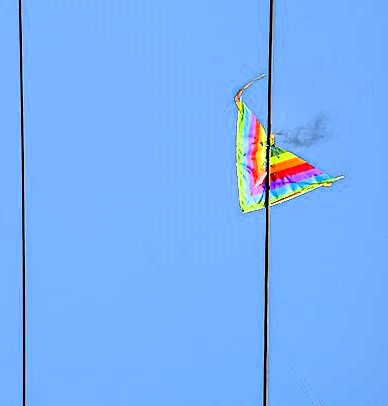wire foreign body: (221, 88, 350, 223)
